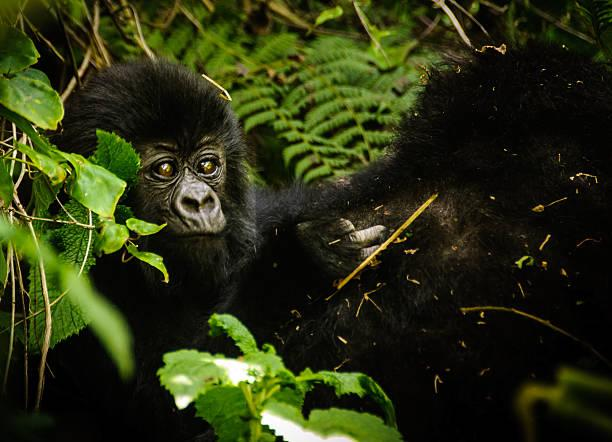goriile_montagne: (68, 66, 289, 327)
